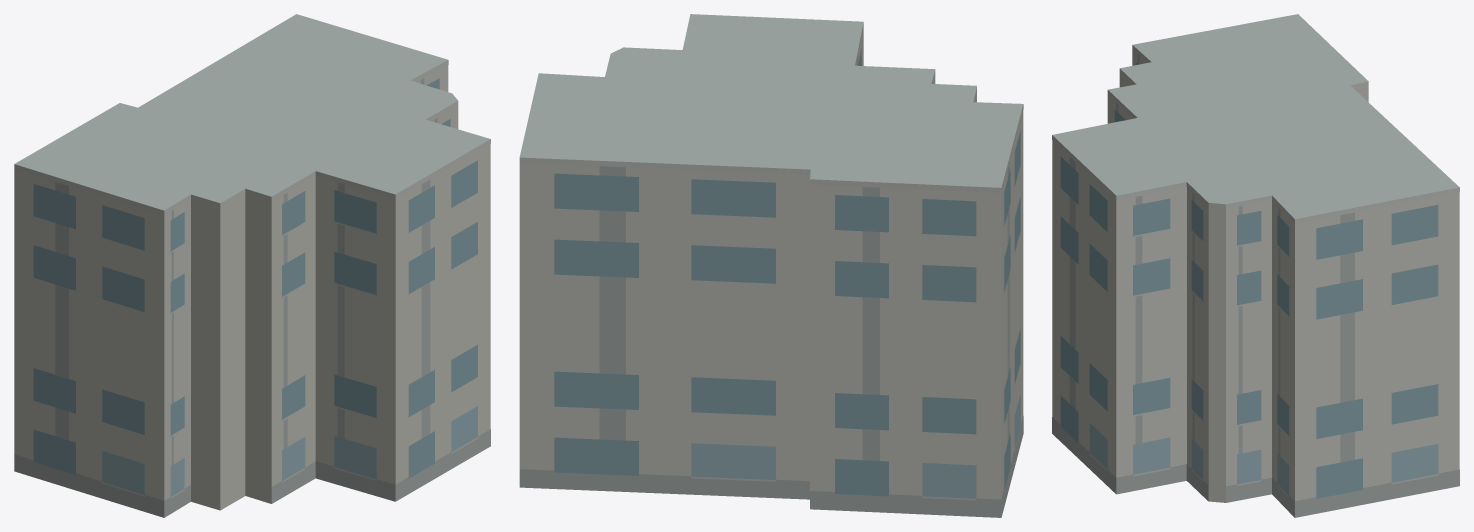
The model's file is survey-upis-32523521.glb.
3 views of the same model, side by side, from view 1: azimuth 30°, elevation 25°; view 2: azimuth 150°, elevation 25°; view 3: azimuth 270°, elevation 25° (orthographic). The views are drawn at different scales.
Visible parts, largest first — view 1: survey-upis-32523521.tmp; view 2: survey-upis-32523521.tmp; view 3: survey-upis-32523521.tmp.
Boxes of the visible parts, x1=… form: survey-upis-32523521.tmp: x1=14, y1=14, x2=490, y2=517; survey-upis-32523521.tmp: x1=519, y1=14, x2=1023, y2=517; survey-upis-32523521.tmp: x1=1052, y1=14, x2=1459, y2=517.
Size of the model in its own units: 21.81 by 14.8 by 18.32.
